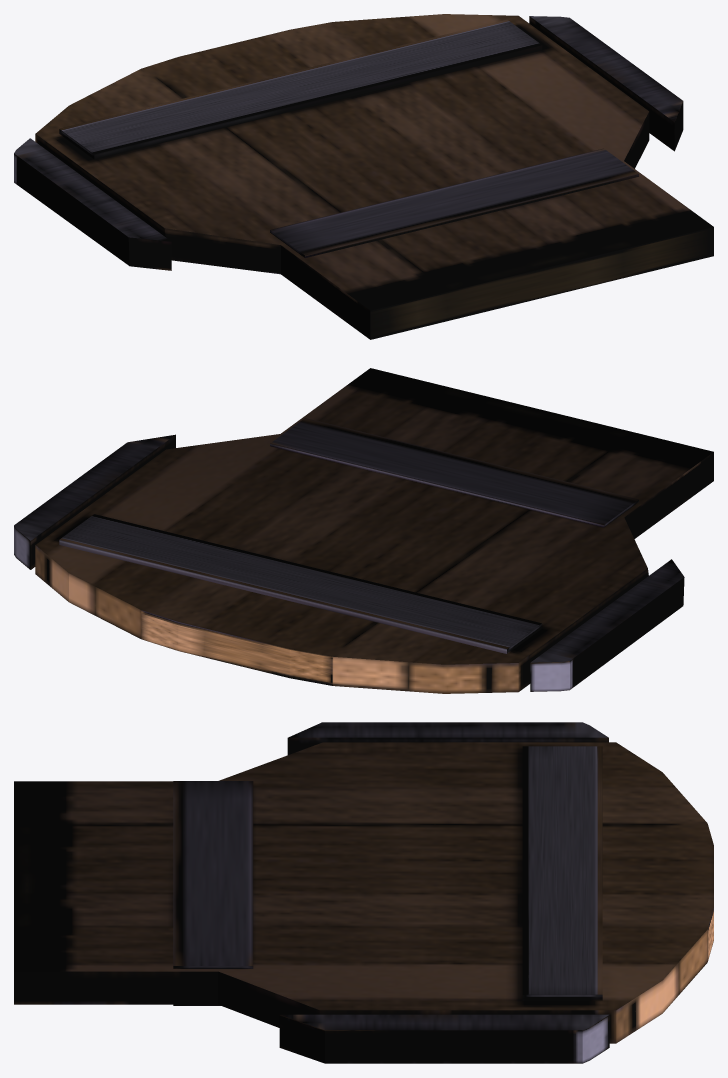
Rendered from ex_DoorR.obj.
3 views of the same model, one above another, from view 1: azimuth 30°, elevation 25°; view 2: azimuth 150°, elevation 25°; view 3: azimuth 270°, elevation 25° (orthographic). The views are drawn at different scales.
Visible parts, largest first — view 1: Cube.337_Cube.026; view 2: Cube.337_Cube.026; view 3: Cube.337_Cube.026.
Boxes of the visible parts, x1,y1,x2,y2 form: Cube.337_Cube.026: [14, 14, 713, 339]; Cube.337_Cube.026: [14, 368, 713, 693]; Cube.337_Cube.026: [14, 722, 713, 1063].
Size of the model in its own units: 190 by 13.18 by 183.
Materials: 1 (1 with a texture image).
